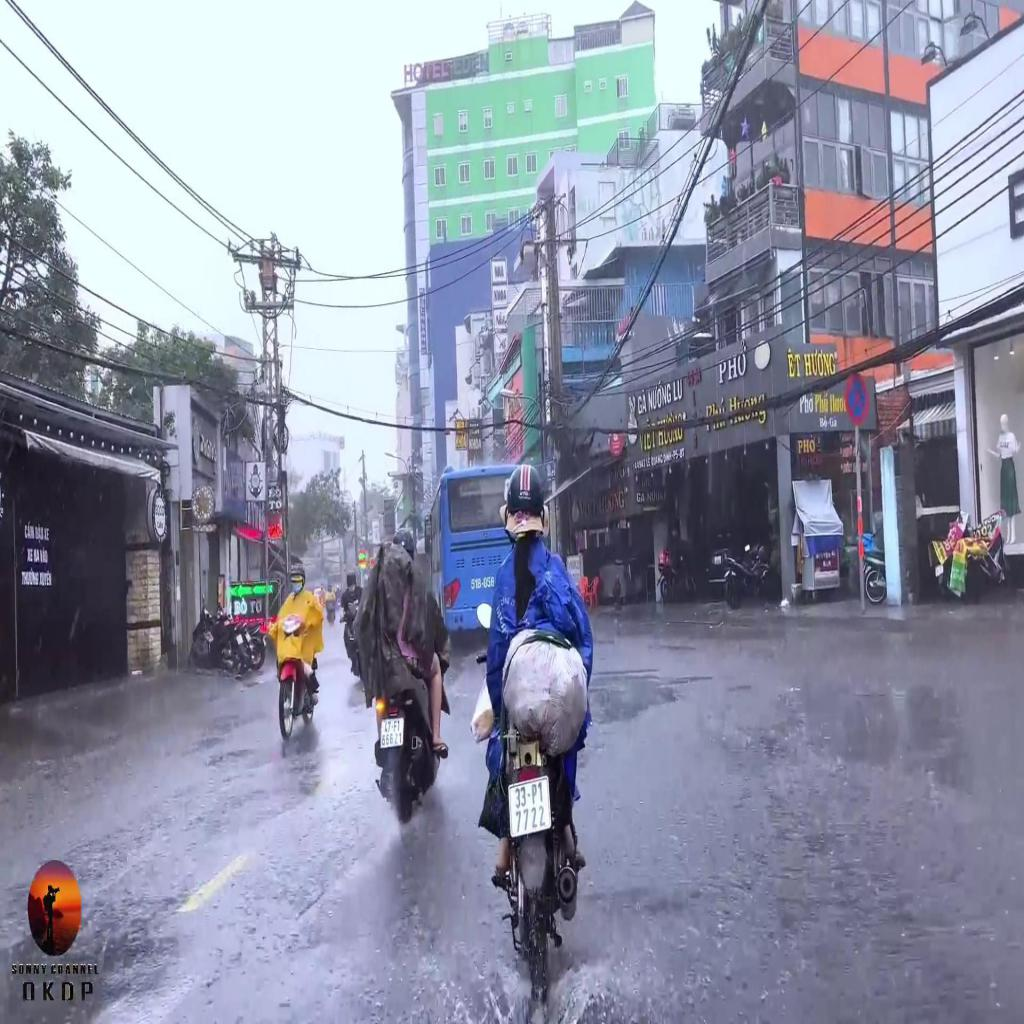cam_dung_xe_va_do_xe: (845, 372, 869, 424)
